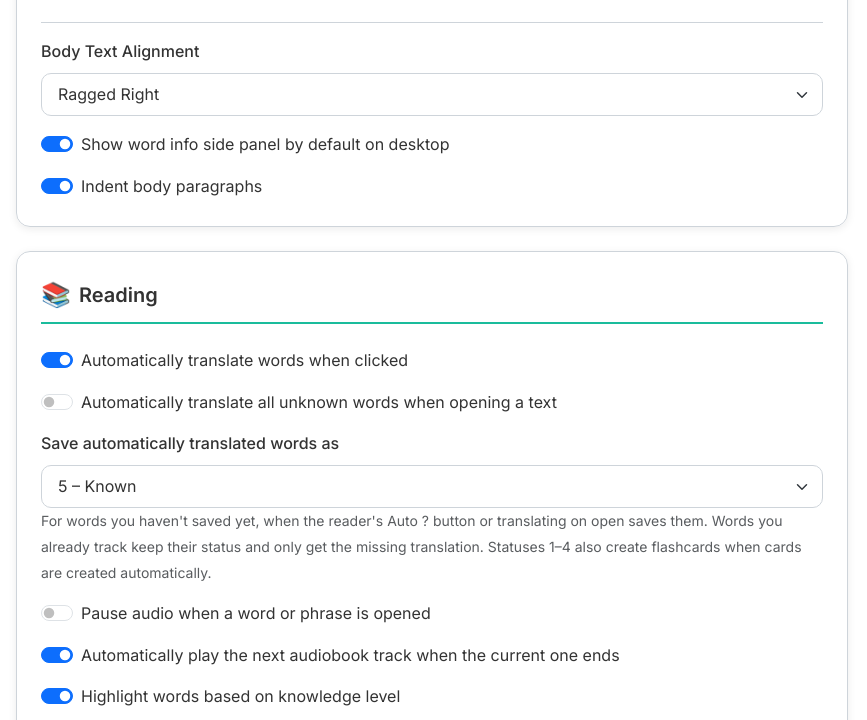
Test: UserSettings › sends nothing when a switch is flipped back before it saves
The image size is (867, 720).
(page scrolled)
Click the checkbox labelled "Automatically translate words when clicked". click: coordinates (57, 360)
box: [41,352,73,368]
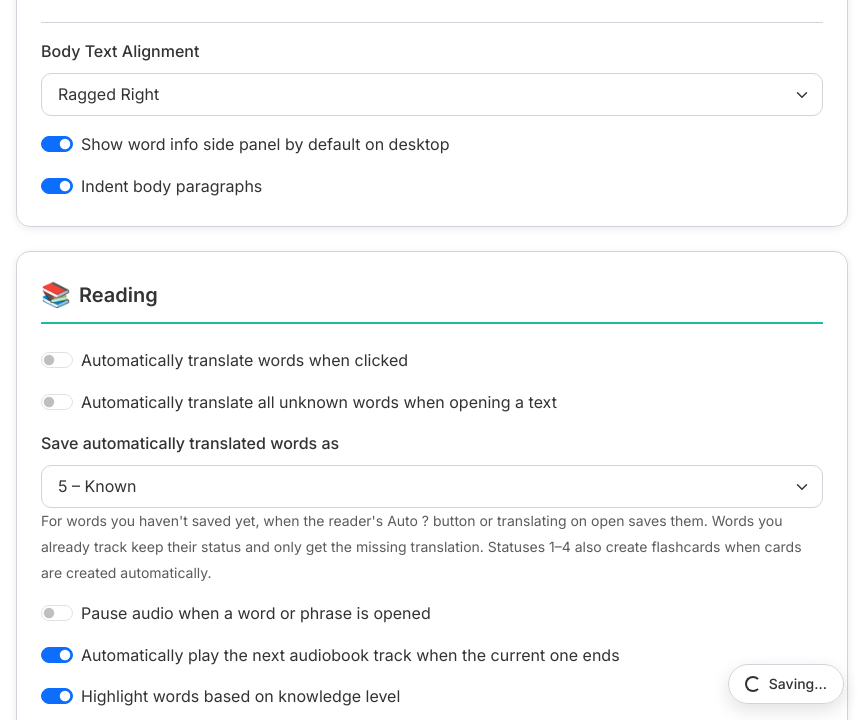
Click the checkbox labelled "Automatically translate words when clicked". click: coordinates (57, 360)
box: [41,352,73,368]
Wait 10000 ms
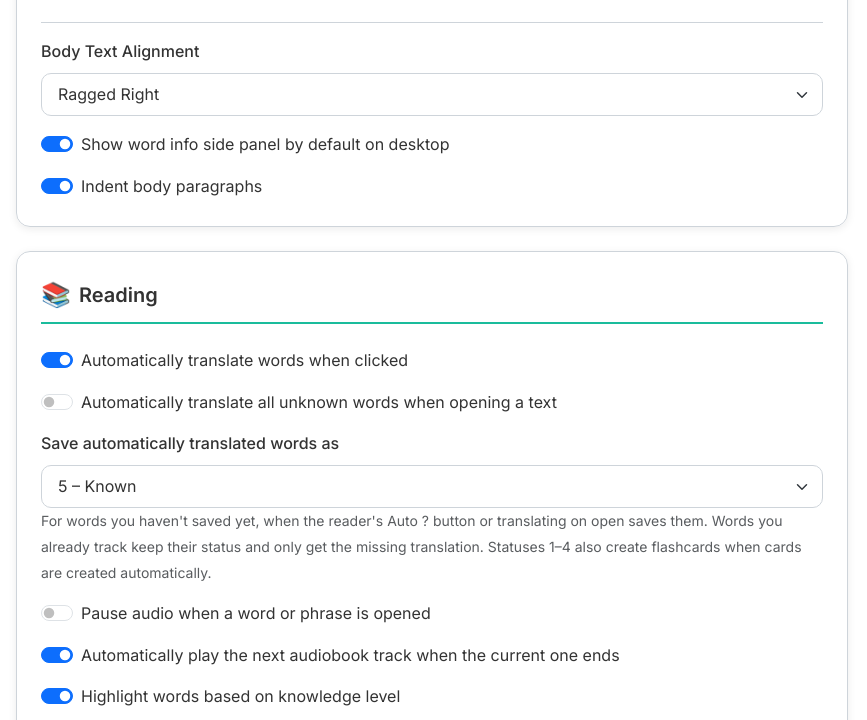
Check: the text "Saving…" is gone
